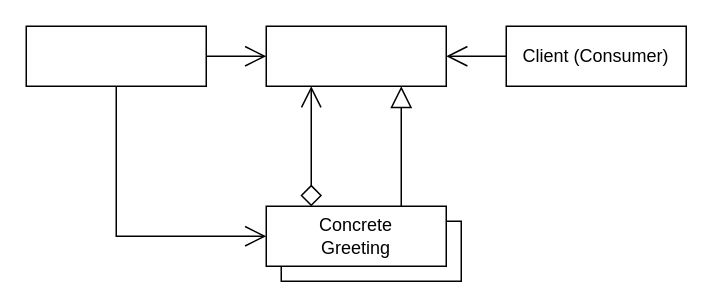
Some shapes in this 713 by 308 pixel diagram are drawn without their labels. Each missing label, with the box of its shape:
Client (Creator): (25, 25, 206, 86)
Greeting: (265, 25, 446, 86)
